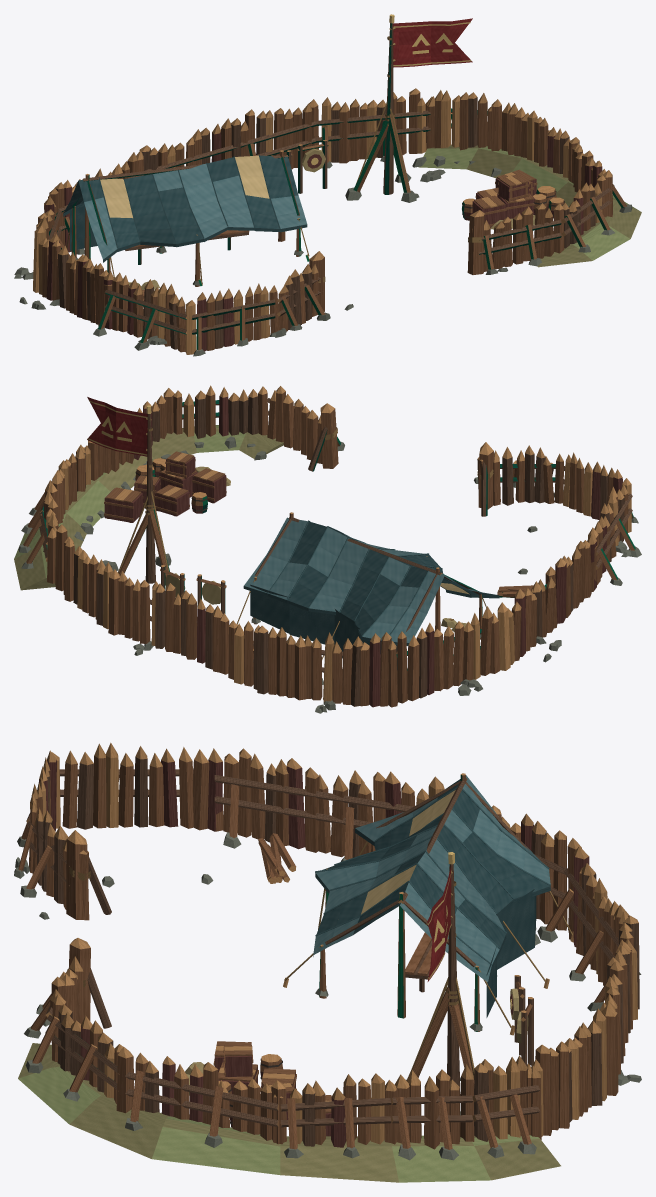
Rendered from marches-road-camp-fit.glb.
3 views of the same model, one above another, from view 1: azimuth 30°, elevation 25°; view 2: azimuth 150°, elevation 25°; view 3: azimuth 270°, elevation 25° (orthographic). The views are drawn at different scales.
Parts seen in each view (by area): view 1: Stockade · flared road-side entrance, Pavilion · dyed shelter and trestle, Stockade · hewn back and windward wall, Earthwork · chamfered field berm and stone toe, Signal mast · raised field standard, Stores · split planks, banded casks and sacks, Yard · drill butts and work clutter; view 2: Stockade · hewn back and windward wall, Stockade · flared road-side entrance, Pavilion · dyed shelter and trestle, Earthwork · chamfered field berm and stone toe, Stores · split planks, banded casks and sacks, Signal mast · raised field standard, Yard · drill butts and work clutter; view 3: Earthwork · chamfered field berm and stone toe, Stockade · flared road-side entrance, Stockade · hewn back and windward wall, Pavilion · dyed shelter and trestle, Signal mast · raised field standard, Stores · split planks, banded casks and sacks, Yard · drill butts and work clutter.
Boxes of the visible parts, box(x1,y1,x2,y2) form: Stockade · flared road-side entrance: box(93, 137, 632, 356); Pavilion · dyed shelter and trestle: box(63, 150, 309, 286); Stockade · hewn back and windward wall: box(33, 88, 432, 327); Earthwork · chamfered field berm and stone toe: box(14, 90, 641, 344); Signal mast · raised field standard: box(345, 14, 472, 202); Stores · split planks, banded casks and sacks: box(128, 169, 564, 289); Yard · drill butts and work clutter: box(84, 140, 507, 313); Stockade · hewn back and windward wall: box(47, 524, 597, 707); Stockade · flared road-side entrance: box(88, 385, 641, 590); Pavilion · dyed shelter and trestle: box(236, 512, 499, 669); Earthwork · chamfered field berm and stone toe: box(14, 425, 631, 713); Stores · split planks, banded casks and sacks: box(104, 451, 466, 631); Signal mast · raised field standard: box(87, 397, 171, 593); Yard · drill butts and work clutter: box(155, 477, 545, 613); Earthwork · chamfered field berm and stone toe: box(15, 857, 641, 1182); Stockade · flared road-side entrance: box(14, 742, 286, 1147); Stockade · hewn back and windward wall: box(214, 748, 639, 1139); Pavilion · dyed shelter and trestle: box(283, 773, 573, 1035); Signal mast · raised field standard: box(406, 852, 474, 1095); Stores · split planks, banded casks and sacks: box(185, 1041, 331, 1136); Yard · drill butts and work clutter: box(39, 833, 540, 1065).
Bounding box in the file's own units: 30.44 × 11.15 × 22.28.
Materials: 1 (1 with a texture image).
